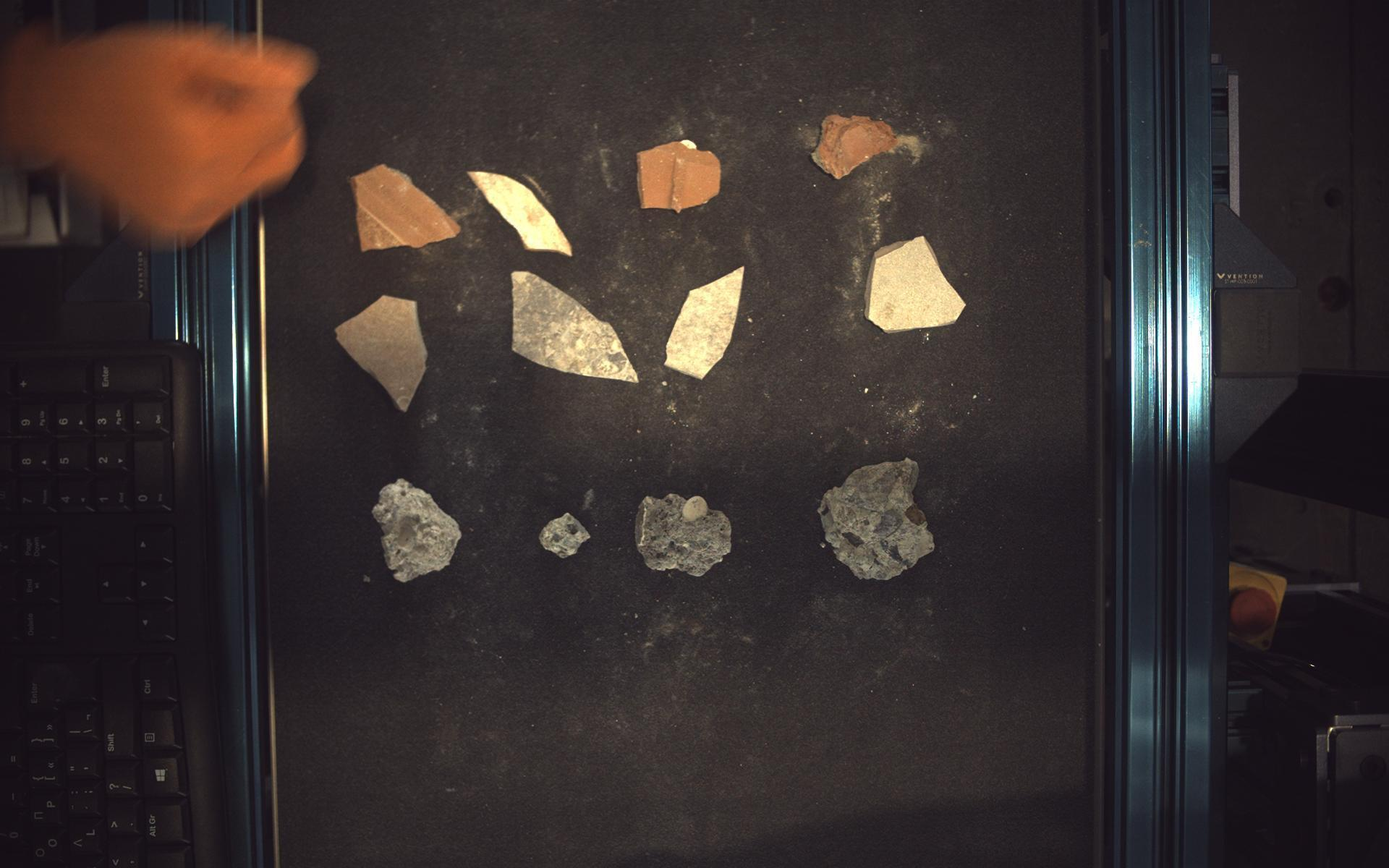brick: (350, 163, 460, 251), (469, 171, 573, 255), (638, 138, 722, 210), (813, 114, 902, 179)
concrete: (820, 459, 937, 581), (372, 479, 462, 583), (636, 494, 732, 577), (540, 513, 591, 558)
tile: (512, 271, 638, 382), (335, 295, 427, 412), (867, 236, 967, 332), (668, 266, 746, 379)
